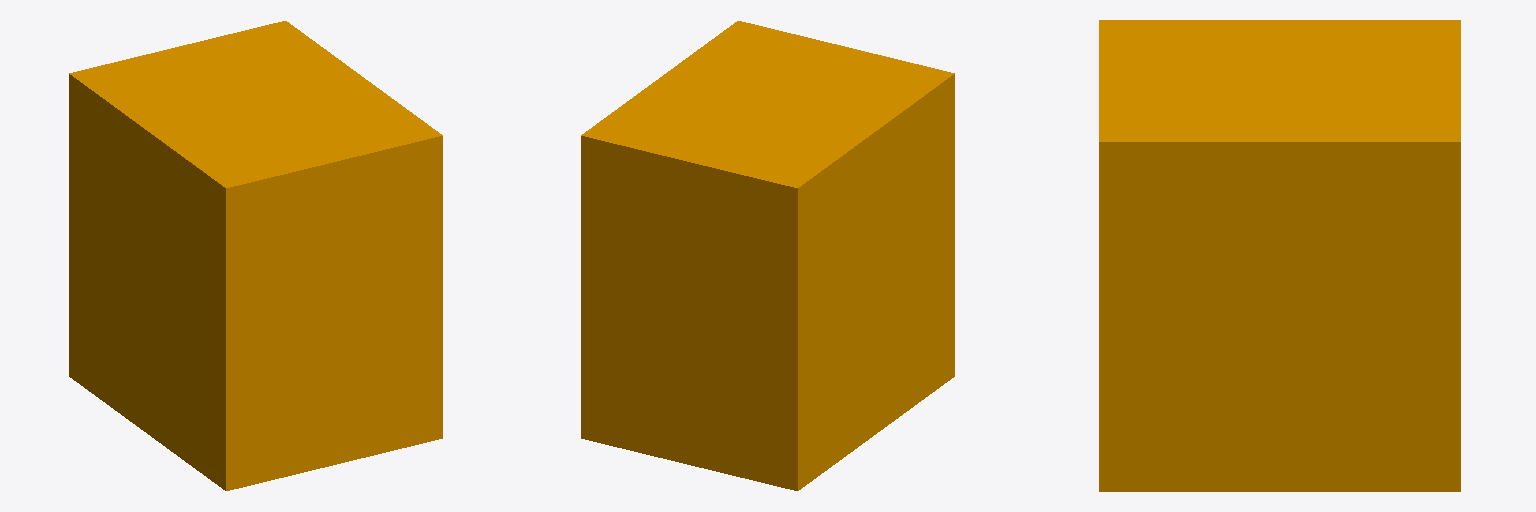
robot.urdf — box_3:
<robot name="box_3">
        <link name="base">
            <inertial>
                <mass value="0.2"/>
                <inertia ixx="0.0001" ixy="0" ixz="0" iyy="0.0001" iyz="0" izz="0.0001"/>
            </inertial>
            <visual>
                <geometry><mesh filename="box_3.obj" scale="1 1 1"/></geometry>
            </visual>
            <collision>
                <geometry><box size="0.04939677416612881 0.06200418390731981 0.06590999234829312"/></geometry>
            </collision>
        </link></robot>

--- Render facts (derived) ---
3 views of the same robot in one strip: view 1: azimuth 30°, elevation 25°; view 2: azimuth 150°, elevation 25°; view 3: azimuth 270°, elevation 25° (orthographic).
Robot: box_3 — 1 links, 0 joints (none); root link base; default pose: all joints at 0.
Links seen in each view (by area): view 1: base; view 2: base; view 3: base.
Boxes of the visible links, <box> form: base: <box>69,21,442,490</box>; base: <box>581,21,954,490</box>; base: <box>1099,20,1460,491</box>.
Size in the robot's own frame: 0.0494 by 0.062 by 0.0659 metres.
Meshes: 1 distinct files referenced, 1 mesh visuals loaded (1 OBJ).
